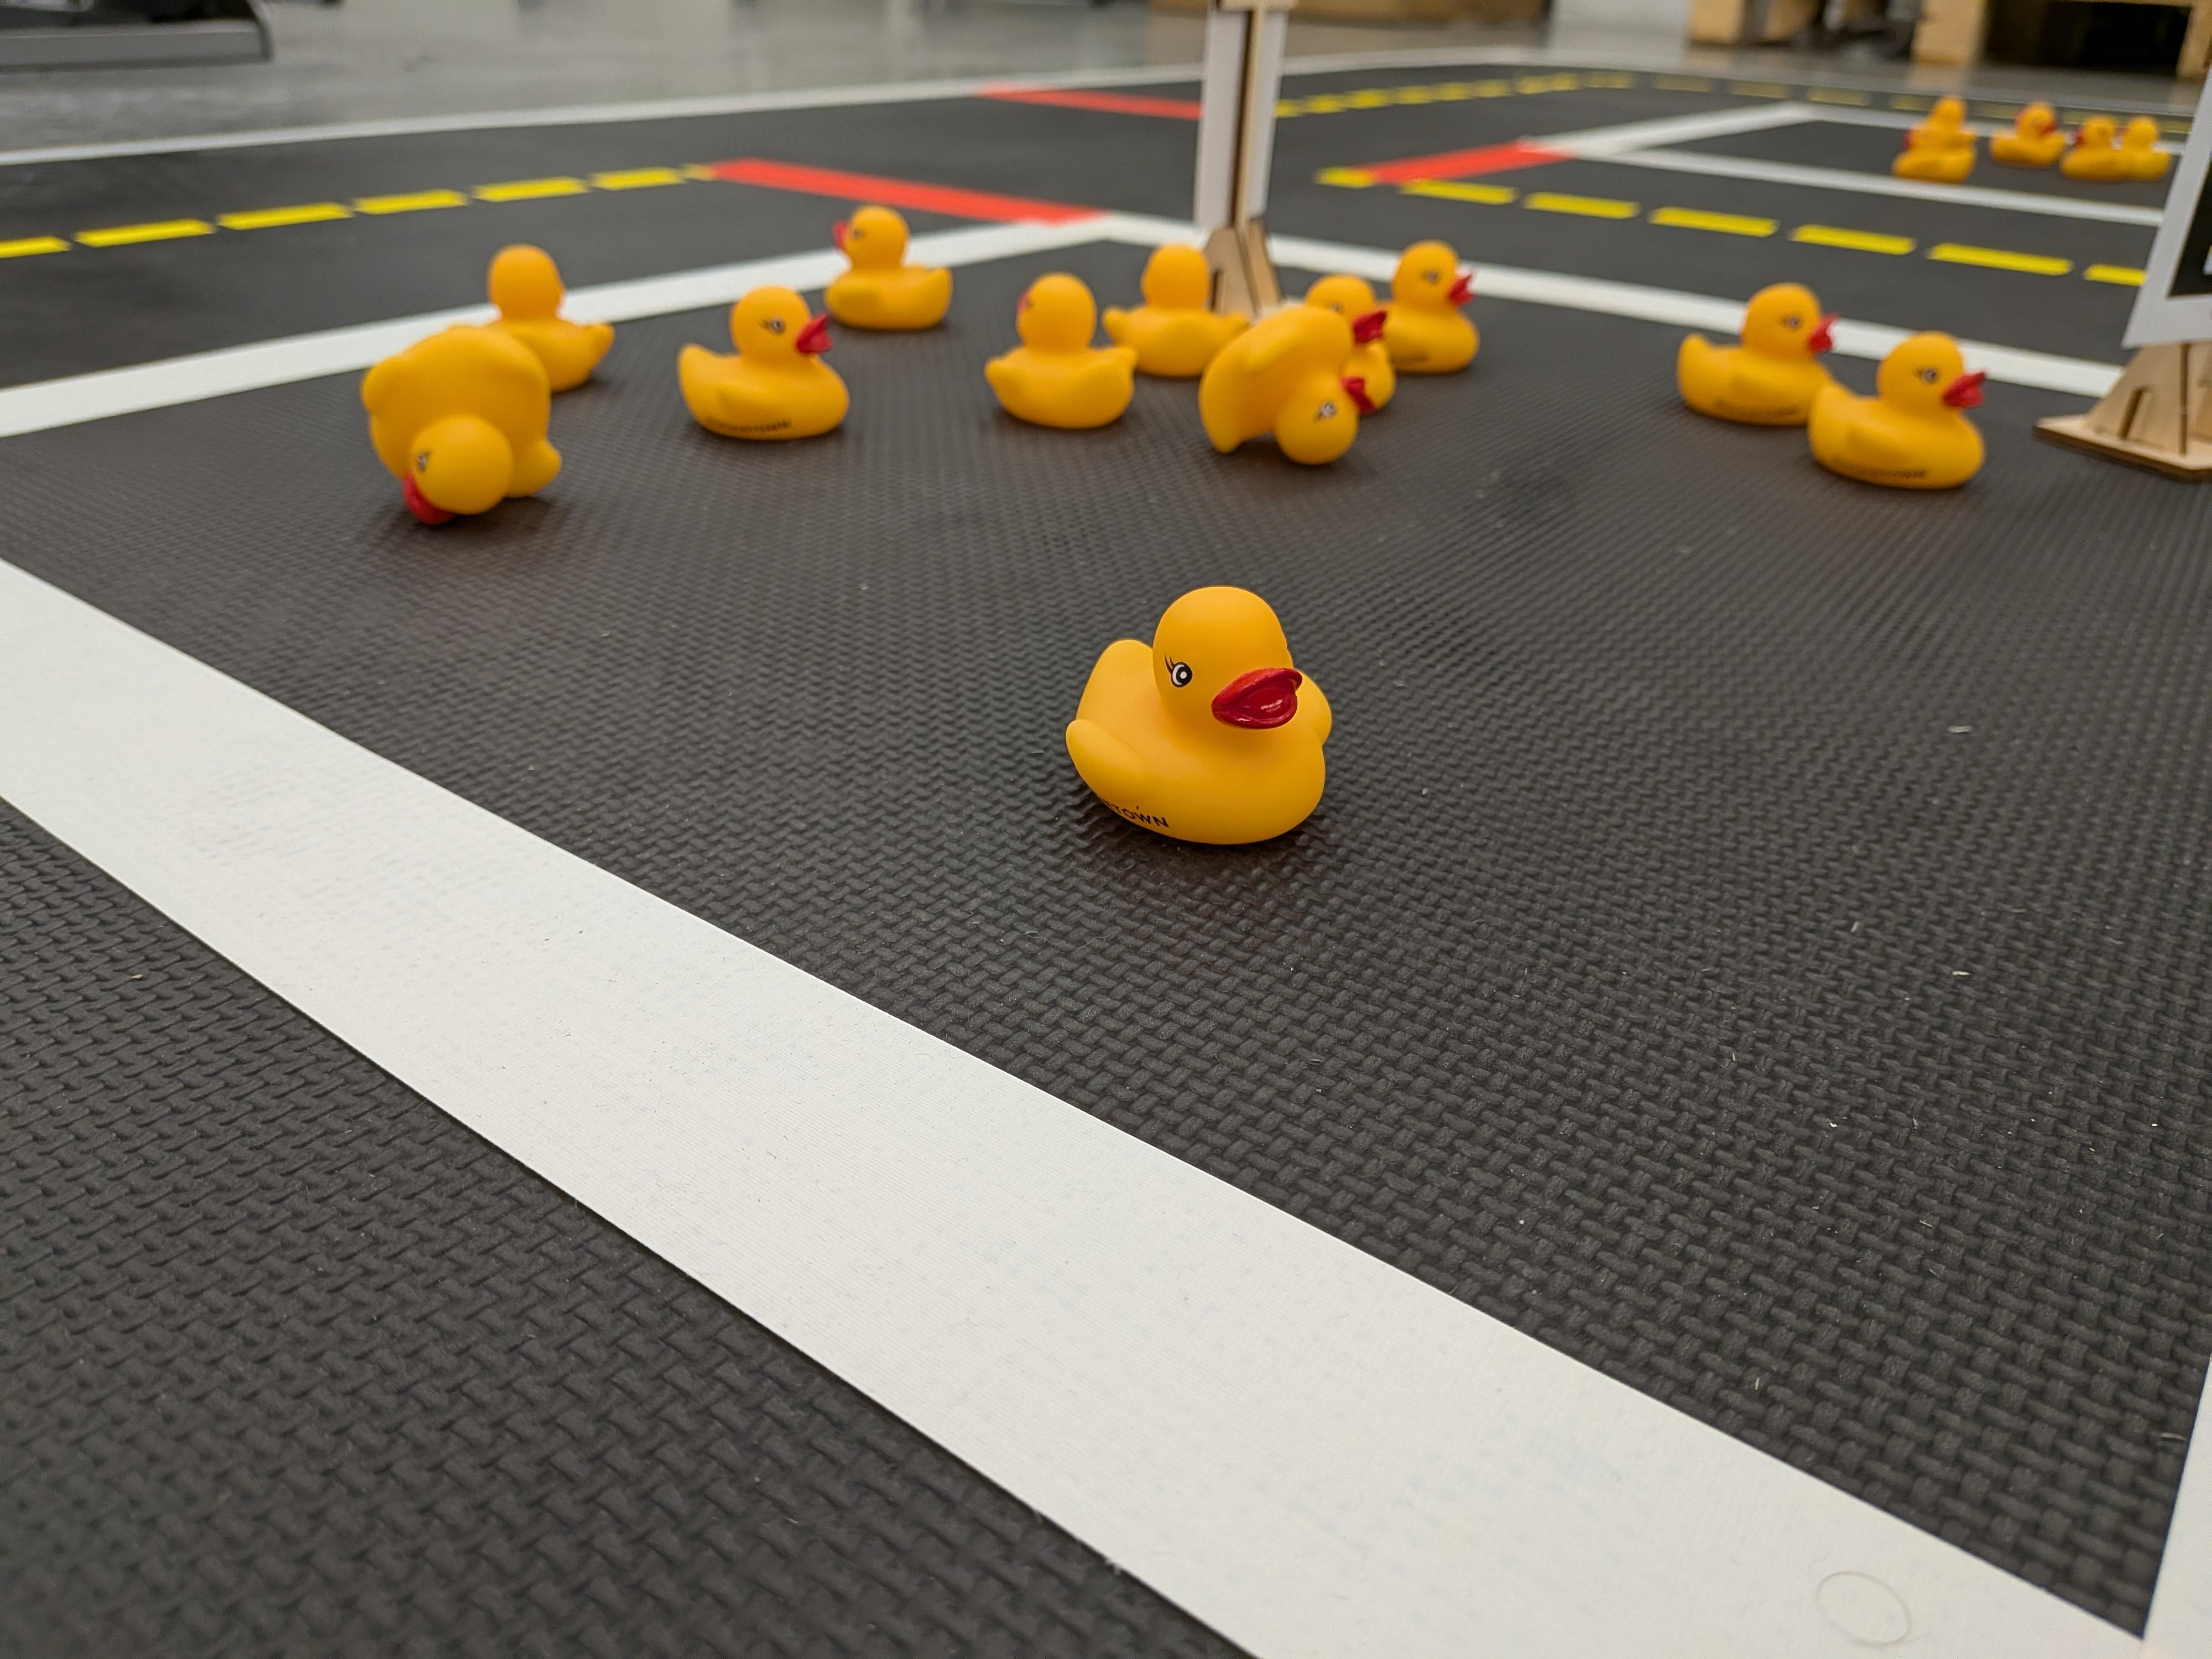peasant: (1069, 573, 1336, 842), (354, 324, 561, 538), (674, 281, 857, 451), (1824, 324, 1994, 502), (1672, 275, 1839, 439), (1193, 300, 1353, 467), (984, 268, 1141, 432), (469, 232, 613, 385), (1341, 232, 1482, 378), (1278, 267, 1392, 434), (822, 204, 949, 340), (1113, 244, 1226, 371), (1876, 85, 1984, 192), (2045, 113, 2139, 186), (1989, 99, 2060, 183), (2109, 113, 2174, 183)
stopbar: (691, 157, 1097, 228), (965, 82, 1224, 125), (1359, 138, 1573, 190)
whiteline: (3, 518, 2212, 1659), (3, 211, 2212, 450)
